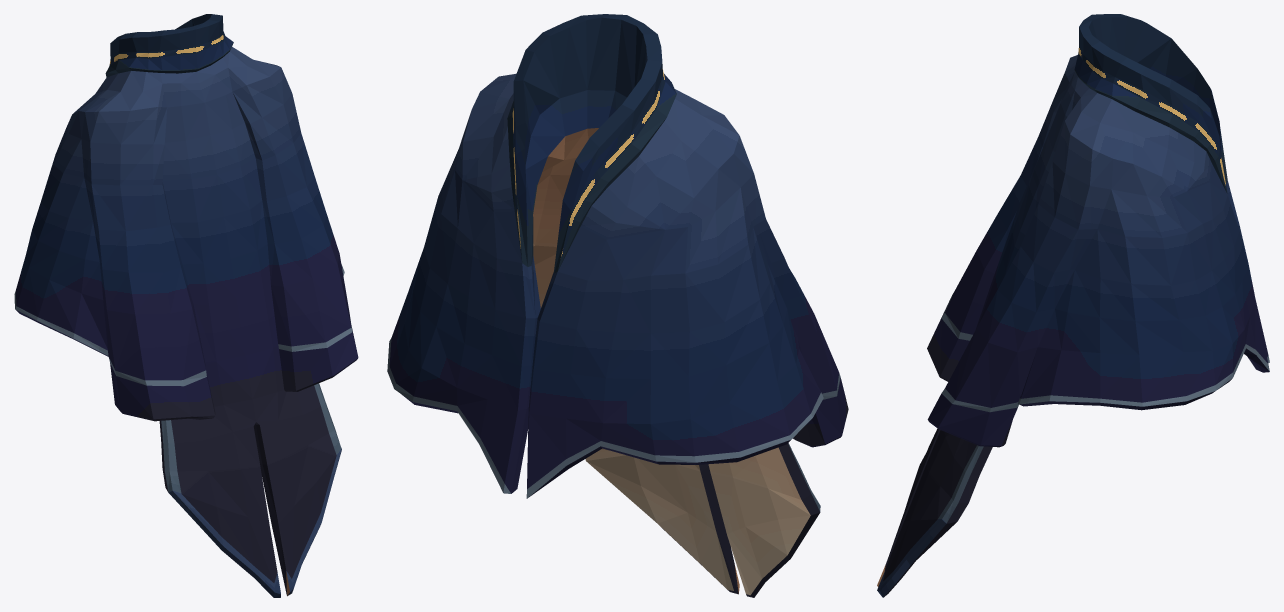
Rendered from CharSkyKid_Wing_AP14Tuxedo_01.glb.
The picture shows the model from 3 angles, left to right: view 1: azimuth 30°, elevation 25°; view 2: azimuth 150°, elevation 25°; view 3: azimuth 270°, elevation 25°; orthographic projection. The views are drawn at different scales.
Visible parts, largest first — view 1: CharSkyKid_Wing_AP14Tuxedo_01; view 2: CharSkyKid_Wing_AP14Tuxedo_01; view 3: CharSkyKid_Wing_AP14Tuxedo_01.
Boxes of the visible parts, x1=… form: CharSkyKid_Wing_AP14Tuxedo_01: x1=14, y1=14, x2=358, y2=597; CharSkyKid_Wing_AP14Tuxedo_01: x1=387, y1=14, x2=848, y2=597; CharSkyKid_Wing_AP14Tuxedo_01: x1=877, y1=14, x2=1269, y2=597.
Size of the model in its own units: 6.16 by 9.73 by 6.11.
1 material, 1 textured.
